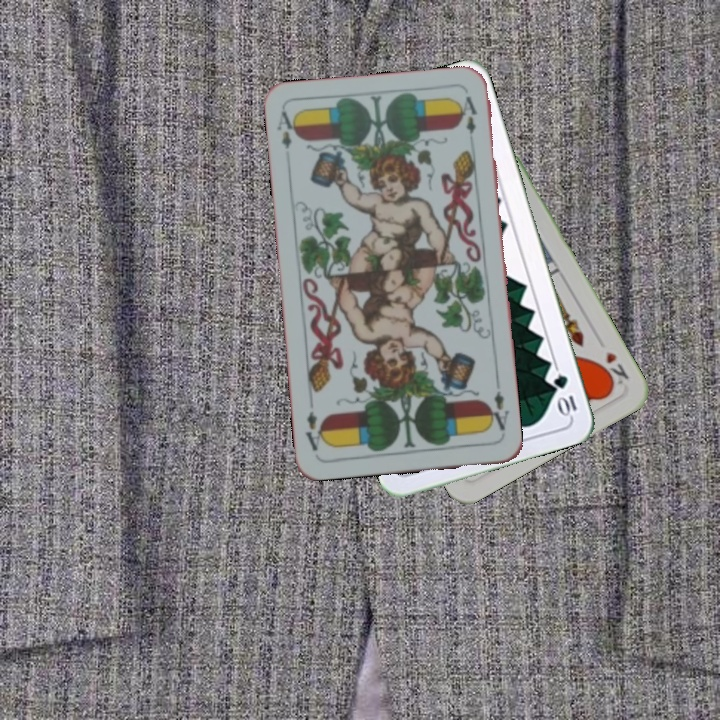EA: (483, 379, 512, 433), (273, 106, 300, 152)
G10: (549, 370, 580, 419)
HK: (596, 347, 632, 390)
